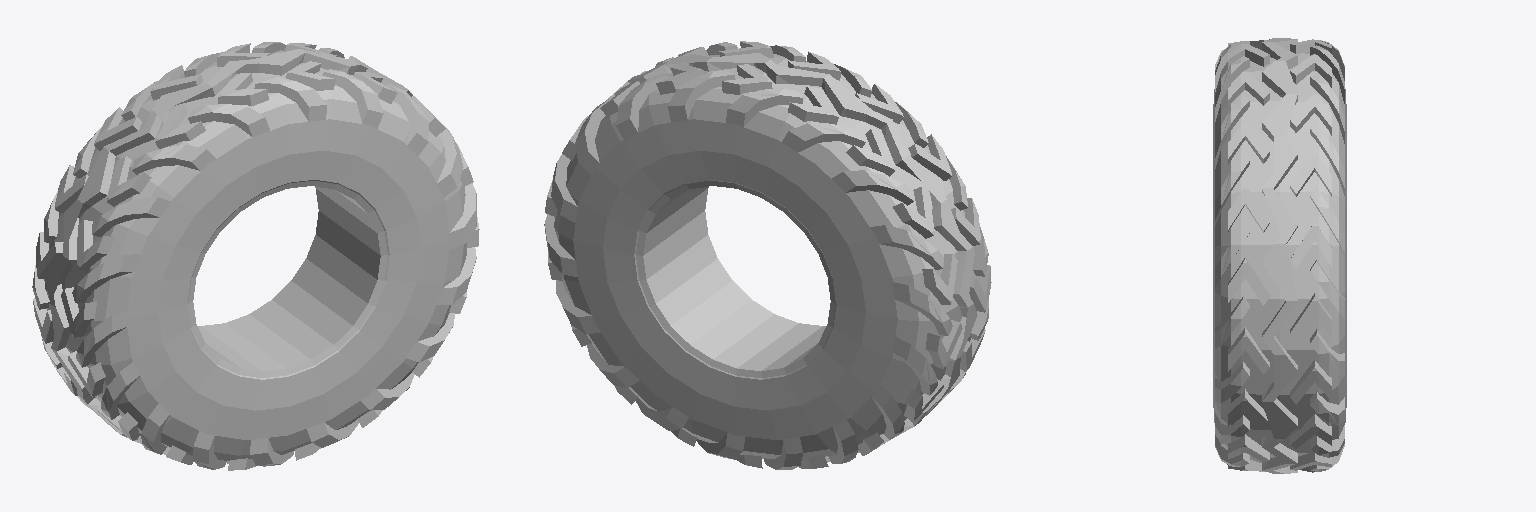
File: wheel.obj
3 renders of one model, left to right at view 1: azimuth 30°, elevation 25°; view 2: azimuth 150°, elevation 25°; view 3: azimuth 270°, elevation 25°, orthographic.
Visible parts, largest first — view 1: Mesh2 tire_half1 G_31x15_00x15_Goodyear_Terra Model, Mesh1 Center_Rib G_31x15_00x15_Goodyear_Terra Model, Mesh3 tire_half2 G_31x15_00x15_Goodyear_Terra Model, Mesh15 Side_Lug_Pattern6 G_31x15_00x15_Goodyear_Terra Model, Mesh13 Side_Lug_Pattern5 G_31x15_00x15_Goodyear_Terra Model, Mesh17 Side_Lug_Pattern7 G_31x15_00x15_Goodyear_Terra Model, Mesh11 Side_Lug_Pattern4 G_31x15_00x15_Goodyear_Terra Model, Mesh33 Side_Lug_Pattern15 G_31x15_00x15_Goodyear_Terra Model, Mesh9 Side_Lug_Pattern3 G_31x15_00x15_Goodyear_Terra Model, Mesh35 Side_Lug_Pattern16 G_31x15_00x15_Goodyear_Terra Model, Mesh7 Side_Lug_Pattern2 G_31x15_00x15_Goodyear_Terra Model, Mesh12 Side_Lug_Pattern5 G_31x15_00x15_Goodyear_Terra Model (+24 smaller); view 2: Mesh3 tire_half2 G_31x15_00x15_Goodyear_Terra Model, Mesh1 Center_Rib G_31x15_00x15_Goodyear_Terra Model, Mesh2 tire_half1 G_31x15_00x15_Goodyear_Terra Model, Mesh69 Side_Lug_Pattern33 G_31x15_00x15_Goodyear_Terra Model, Mesh61 Side_Lug_Pattern29 G_31x15_00x15_Goodyear_Terra Model, Mesh59 Side_Lug_Pattern28 G_31x15_00x15_Goodyear_Terra Model, Mesh67 Side_Lug_Pattern32 G_31x15_00x15_Goodyear_Terra Model, Mesh53 Side_Lug_Pattern25 G_31x15_00x15_Goodyear_Terra Model, Mesh65 Side_Lug_Pattern31 G_31x15_00x15_Goodyear_Terra Model, Mesh47 Side_Lug_Pattern22 G_31x15_00x15_Goodyear_Terra Model, Mesh68 Side_Lug_Pattern33 G_31x15_00x15_Goodyear_Terra Model, Mesh75 Side_Lug_Pattern36 G_31x15_00x15_Goodyear_Terra Model (+22 smaller); view 3: Mesh2 tire_half1 G_31x15_00x15_Goodyear_Terra Model, Mesh3 tire_half2 G_31x15_00x15_Goodyear_Terra Model, Mesh1 Center_Rib G_31x15_00x15_Goodyear_Terra Model, Mesh38 Side_Lug_Pattern18 G_31x15_00x15_Goodyear_Terra Model, Mesh44 Side_Lug_Pattern21 G_31x15_00x15_Goodyear_Terra Model, Mesh56 Side_Lug_Pattern27 G_31x15_00x15_Goodyear_Terra Model, Mesh34 Side_Lug_Pattern16 G_31x15_00x15_Goodyear_Terra Model, Mesh64 Side_Lug_Pattern31 G_31x15_00x15_Goodyear_Terra Model, Mesh74 Side_Lug_Pattern36 G_31x15_00x15_Goodyear_Terra Model, Mesh36 Side_Lug_Pattern17 G_31x15_00x15_Goodyear_Terra Model, Mesh20 Side_Lug_Pattern9 G_31x15_00x15_Goodyear_Terra Model, Mesh18 Side_Lug_Pattern8 G_31x15_00x15_Goodyear_Terra Model (+20 smaller).
Part boxes in pixels (left/top/right/bottom): Mesh2 tire_half1 G_31x15_00x15_Goodyear_Terra Model: left=64, top=65, right=466, bottom=460; Mesh1 Center_Rib G_31x15_00x15_Goodyear_Terra Model: left=46, top=49, right=412, bottom=444; Mesh3 tire_half2 G_31x15_00x15_Goodyear_Terra Model: left=44, top=50, right=349, bottom=353; Mesh15 Side_Lug_Pattern6 G_31x15_00x15_Goodyear_Terra Model: left=188, top=104, right=269, bottom=136; Mesh13 Side_Lug_Pattern5 G_31x15_00x15_Goodyear_Terra Model: left=132, top=145, right=215, bottom=174; Mesh17 Side_Lug_Pattern7 G_31x15_00x15_Goodyear_Terra Model: left=254, top=77, right=326, bottom=121; Mesh11 Side_Lug_Pattern4 G_31x15_00x15_Goodyear_Terra Model: left=92, top=197, right=170, bottom=236; Mesh33 Side_Lug_Pattern15 G_31x15_00x15_Goodyear_Terra Model: left=322, top=69, right=383, bottom=128; Mesh9 Side_Lug_Pattern3 G_31x15_00x15_Goodyear_Terra Model: left=72, top=254, right=140, bottom=302; Mesh35 Side_Lug_Pattern16 G_31x15_00x15_Goodyear_Terra Model: left=386, top=84, right=428, bottom=155; Mesh7 Side_Lug_Pattern2 G_31x15_00x15_Goodyear_Terra Model: left=76, top=310, right=126, bottom=367; Mesh12 Side_Lug_Pattern5 G_31x15_00x15_Goodyear_Terra Model: left=107, top=156, right=151, bottom=206; Mesh3 tire_half2 G_31x15_00x15_Goodyear_Terra Model: left=554, top=68, right=960, bottom=459; Mesh1 Center_Rib G_31x15_00x15_Goodyear_Terra Model: left=607, top=53, right=977, bottom=452; Mesh2 tire_half1 G_31x15_00x15_Goodyear_Terra Model: left=674, top=54, right=979, bottom=380; Mesh69 Side_Lug_Pattern33 G_31x15_00x15_Goodyear_Terra Model: left=782, top=123, right=865, bottom=152; Mesh61 Side_Lug_Pattern29 G_31x15_00x15_Goodyear_Terra Model: left=726, top=88, right=802, bottom=126; Mesh59 Side_Lug_Pattern28 G_31x15_00x15_Goodyear_Terra Model: left=832, top=170, right=914, bottom=205; Mesh67 Side_Lug_Pattern32 G_31x15_00x15_Goodyear_Terra Model: left=668, top=70, right=735, bottom=122; Mesh53 Side_Lug_Pattern25 G_31x15_00x15_Goodyear_Terra Model: left=870, top=225, right=943, bottom=269; Mesh65 Side_Lug_Pattern31 G_31x15_00x15_Goodyear_Terra Model: left=616, top=74, right=668, bottom=139; Mesh47 Side_Lug_Pattern22 G_31x15_00x15_Goodyear_Terra Model: left=893, top=282, right=952, bottom=335; Mesh68 Side_Lug_Pattern33 G_31x15_00x15_Goodyear_Terra Model: left=846, top=129, right=894, bottom=176; Mesh75 Side_Lug_Pattern36 G_31x15_00x15_Goodyear_Terra Model: left=575, top=99, right=610, bottom=174; Mesh2 tire_half1 G_31x15_00x15_Goodyear_Terra Model: left=1213, top=57, right=1279, bottom=462; Mesh3 tire_half2 G_31x15_00x15_Goodyear_Terra Model: left=1280, top=53, right=1346, bottom=456; Mesh1 Center_Rib G_31x15_00x15_Goodyear_Terra Model: left=1262, top=38, right=1297, bottom=473; Mesh38 Side_Lug_Pattern18 G_31x15_00x15_Goodyear_Terra Model: left=1228, top=327, right=1269, bottom=374; Mesh44 Side_Lug_Pattern21 G_31x15_00x15_Goodyear_Terra Model: left=1290, top=360, right=1331, bottom=404; Mesh56 Side_Lug_Pattern27 G_31x15_00x15_Goodyear_Terra Model: left=1290, top=293, right=1331, bottom=341; Mesh34 Side_Lug_Pattern16 G_31x15_00x15_Goodyear_Terra Model: left=1228, top=120, right=1269, bottom=164; Mesh64 Side_Lug_Pattern31 G_31x15_00x15_Goodyear_Terra Model: left=1290, top=93, right=1331, bottom=135; Mesh74 Side_Lug_Pattern36 G_31x15_00x15_Goodyear_Terra Model: left=1290, top=151, right=1331, bottom=196; Mesh36 Side_Lug_Pattern17 G_31x15_00x15_Goodyear_Terra Model: left=1228, top=257, right=1269, bottom=305; Mesh20 Side_Lug_Pattern9 G_31x15_00x15_Goodyear_Terra Model: left=1228, top=185, right=1269, bottom=232; Mesh18 Side_Lug_Pattern8 G_31x15_00x15_Goodyear_Terra Model: left=1228, top=389, right=1268, bottom=429.
Size of the model in its own units: 0.9951 by 0.9114 by 0.2852.